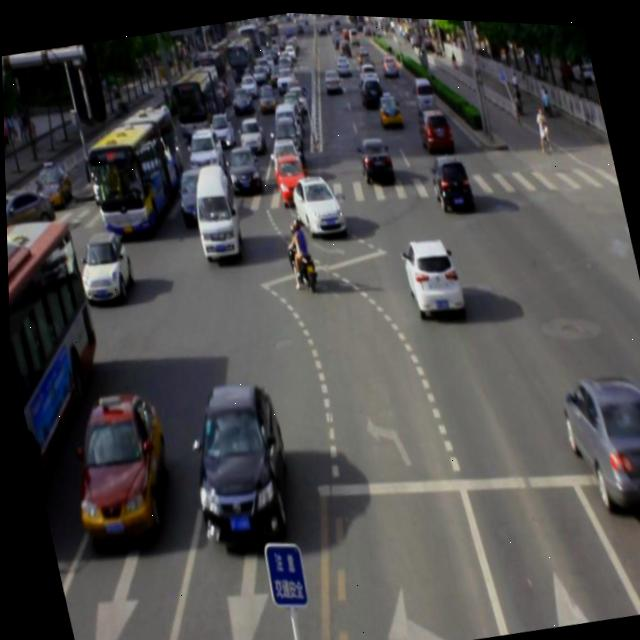car: (170, 370, 298, 548), (54, 383, 176, 547), (554, 357, 640, 511), (397, 229, 463, 315), (72, 228, 135, 305), (285, 165, 345, 239), (427, 146, 473, 210)
truck: (184, 161, 244, 260)
van: (5, 212, 118, 486)
